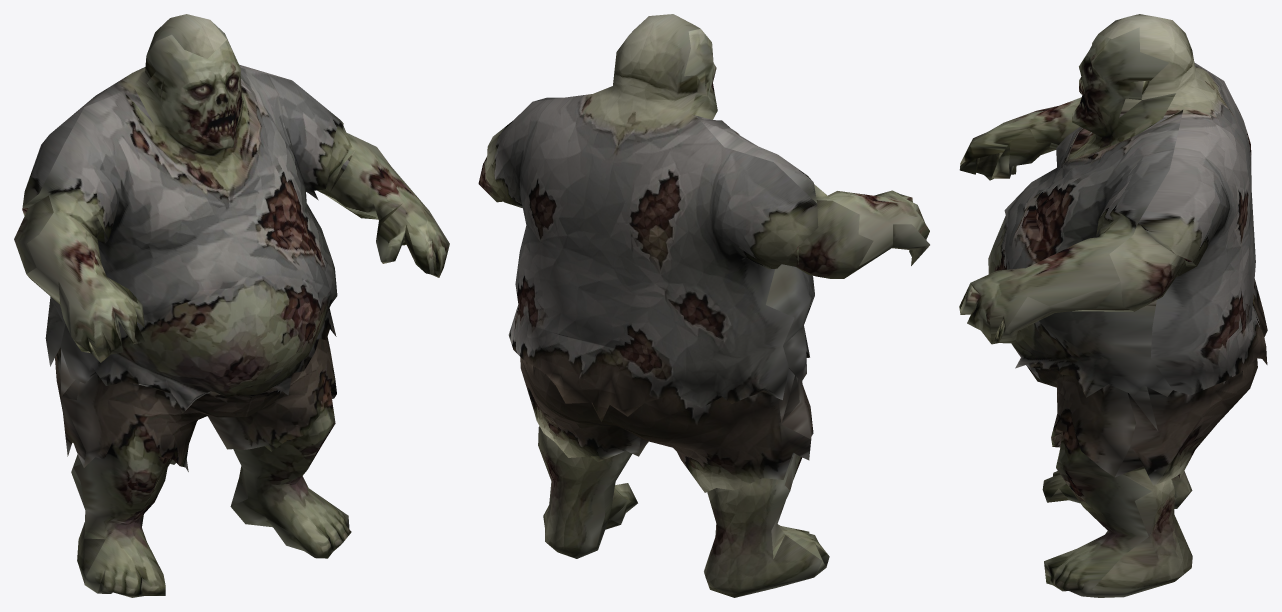
The model's file is fatz.glb.
3 renders of one model, left to right at view 1: azimuth 30°, elevation 25°; view 2: azimuth 150°, elevation 25°; view 3: azimuth 270°, elevation 25°, orthographic. The views are drawn at different scales.
Visible parts, largest first — view 1: world; view 2: world; view 3: world.
Part boxes in pixels (box(x1,y1,x2,y2)): world: box(14, 14, 449, 597); world: box(478, 14, 929, 597); world: box(959, 14, 1267, 597).
Size of the model in its own units: 1.73 by 2.3 by 1.23.
Materials: 1 (1 with a texture image).
